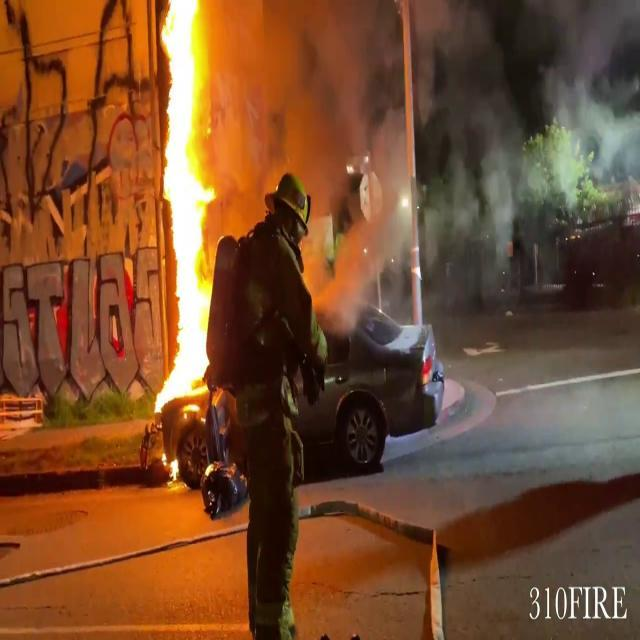Fire: (156, 0, 216, 405)
Smoke: (203, 0, 640, 262)
